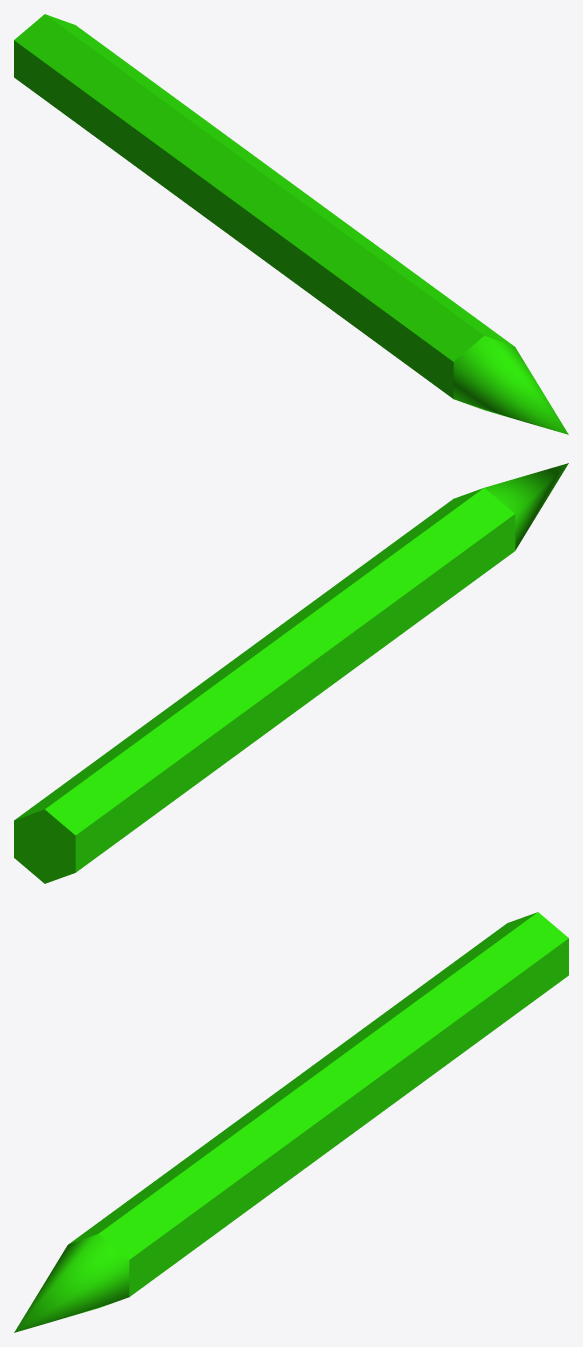
File: Pen_04.fbx
3 renders of one model, top to bottom at view 1: azimuth 30°, elevation 25°; view 2: azimuth 150°, elevation 25°; view 3: azimuth 330°, elevation 25°, orthographic.
Visible parts, largest first — view 1: Pen_04; view 2: Pen_04; view 3: Pen_04.
Boxes of the visible parts, x1,y1,x2,y2 form: Pen_04: [14, 14, 568, 434]; Pen_04: [14, 463, 568, 883]; Pen_04: [14, 912, 568, 1332].
Size of the model in its own units: 0.8315 by 0.9602 by 12.24.
